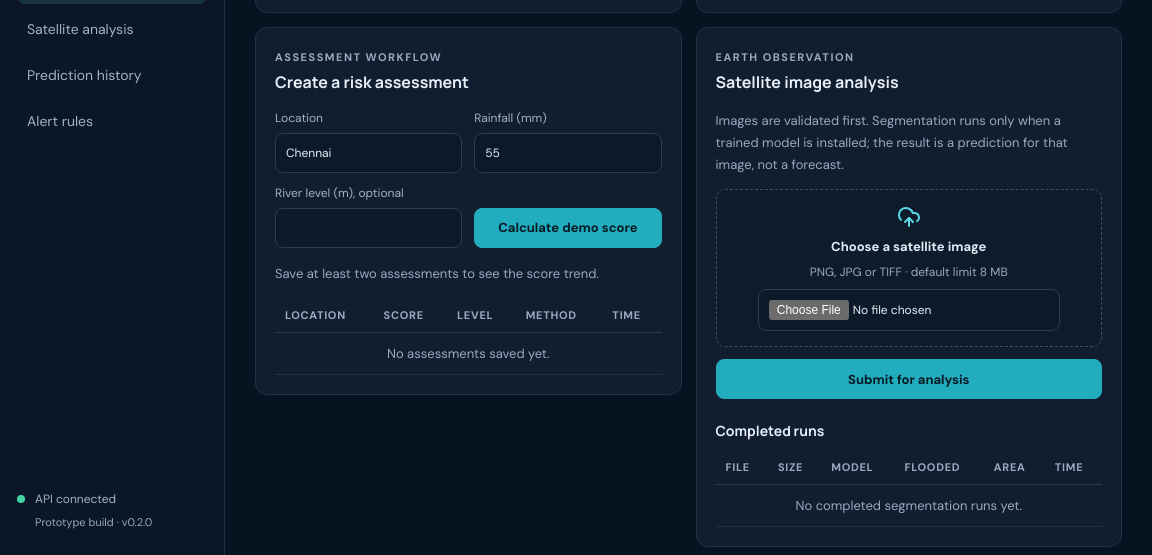
Scenario: risk assessments › sends numbers to the API and reports dry-run alert matches
The image size is (1152, 555).
(page scrolled)
Click the button "Calculate demo score" at (568, 228), box [474, 208, 662, 248]
(page scrolled)
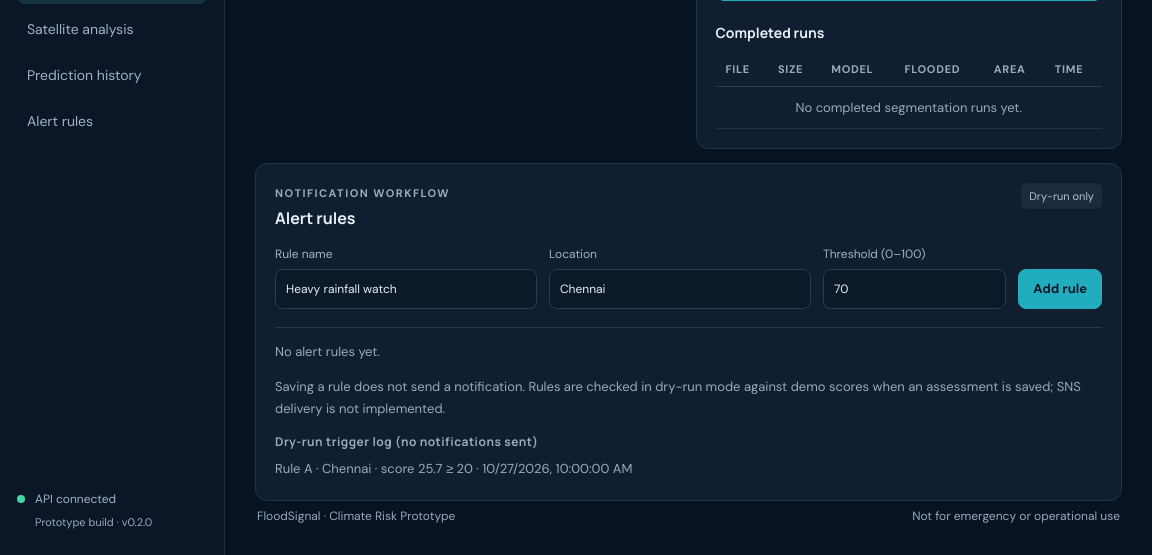
Now the list item "Rule A · Chennai · score 25.7 ≥ 20 · 10/27/2026, 10:00:00 AM" is shown, box [275, 460, 632, 477]
